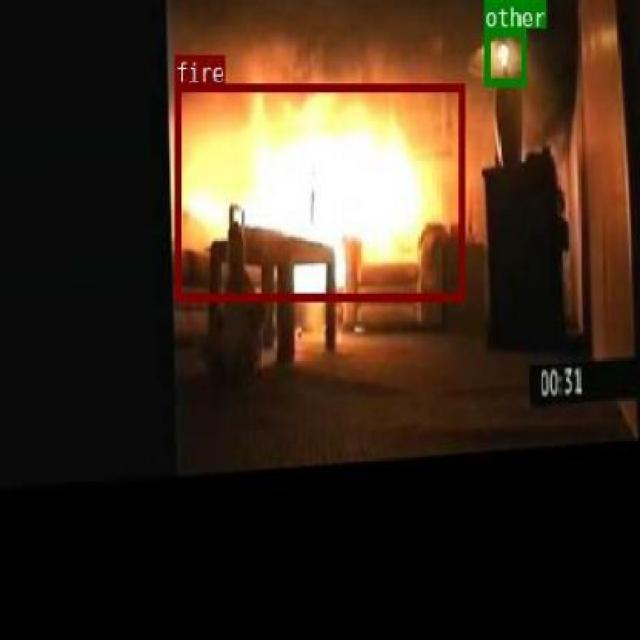Fire: (174, 83, 463, 300)
